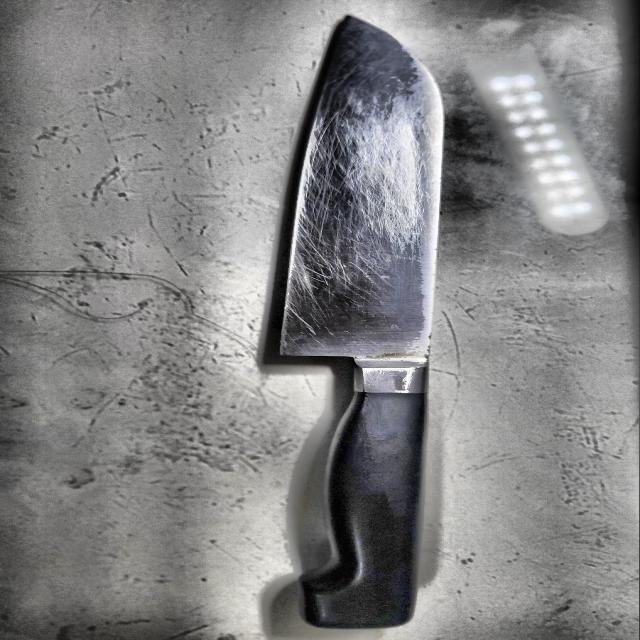knife: (259, 15, 446, 634)
